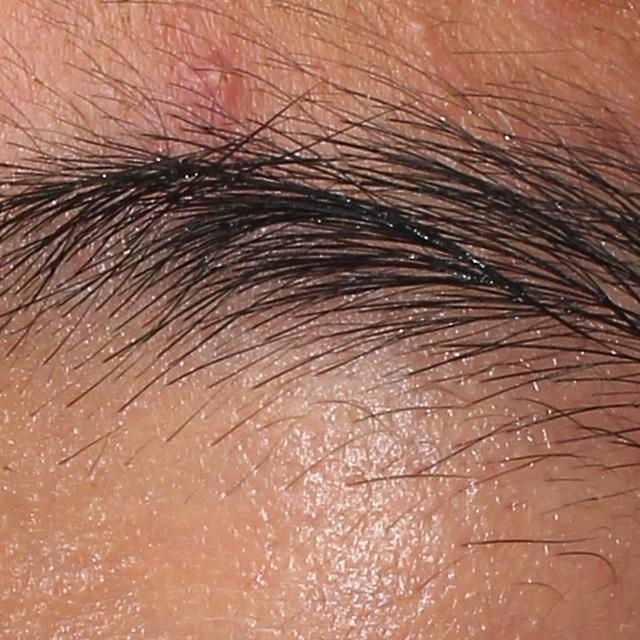comedo: (407, 16, 435, 49)
